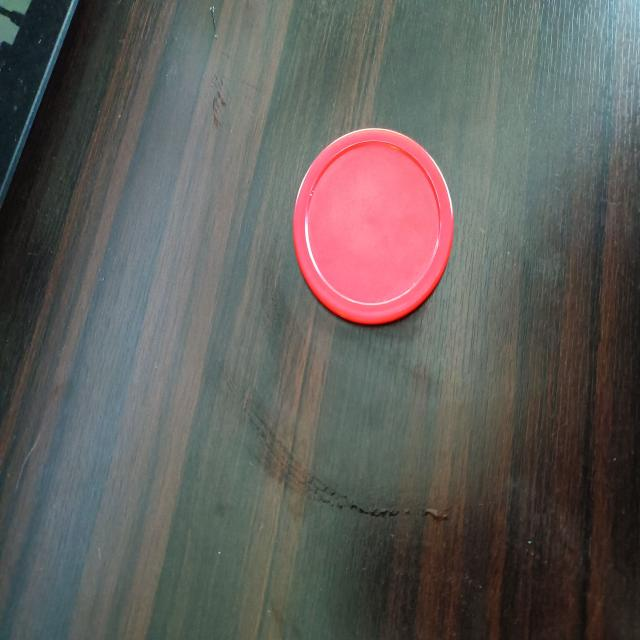chip: (289, 127, 449, 327)
